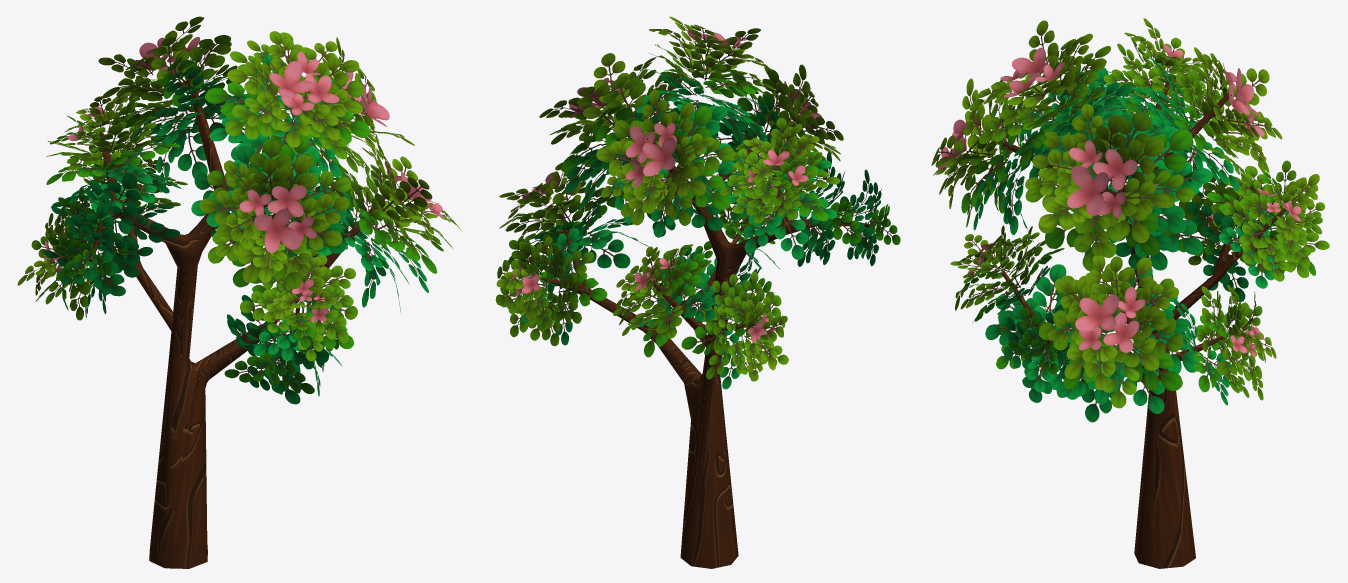
File: greentree3.fbx
The picture shows the model from 3 angles, left to right: view 1: azimuth 30°, elevation 25°; view 2: azimuth 150°, elevation 25°; view 3: azimuth 270°, elevation 25°; orthographic projection. The views are drawn at different scales.
Parts seen in each view (by area): view 1: TRW2; view 2: TRW2; view 3: TRW2.
Boxes of the visible parts, left/top/right/bottom form: TRW2: left=17, top=16, right=461, bottom=568; TRW2: left=495, top=16, right=900, bottom=568; TRW2: left=931, top=18, right=1329, bottom=568.
Bounding box in the file's own units: 621 × 764 × 510.
